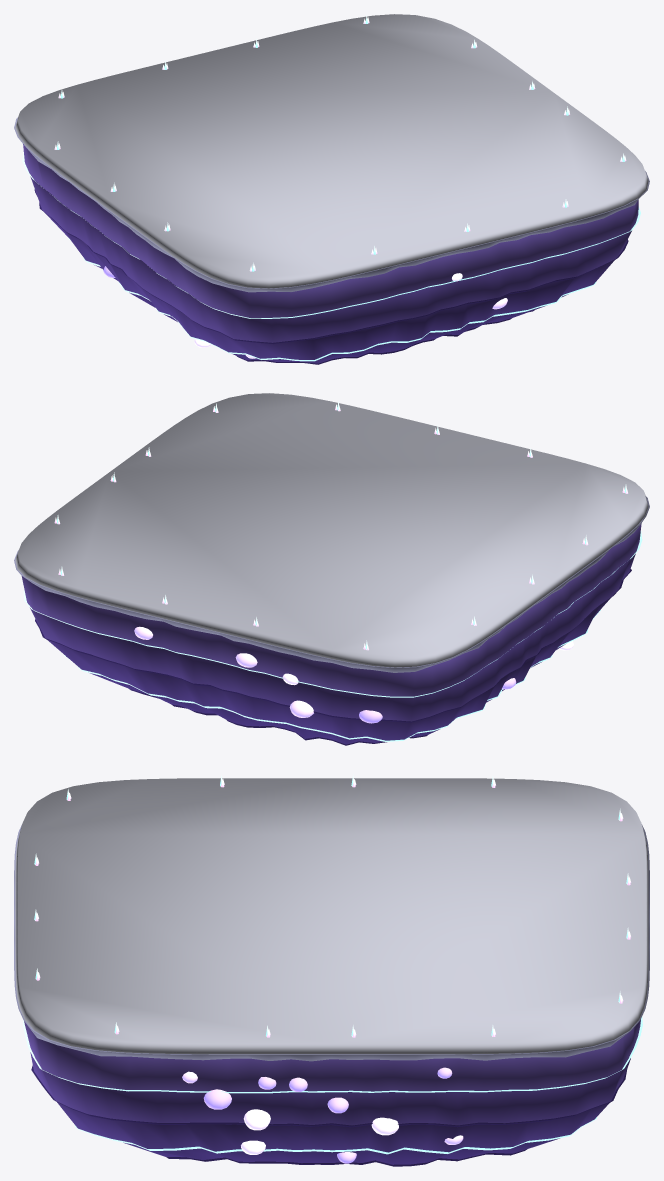
File: island.glb
3 views of the same model, one above another, from view 1: azimuth 30°, elevation 25°; view 2: azimuth 150°, elevation 25°; view 3: azimuth 270°, elevation 25° (orthographic). The views are drawn at different scales.
Parts seen in each view (by area): view 1: top; view 2: top; view 3: top.
Part boxes in pixels (left/top/right/bottom): top: left=14, top=14, right=649, bottom=364; top: left=14, top=393, right=649, bottom=745; top: left=14, top=774, right=649, bottom=1166.
Bounding box in the file's own units: 9.57 × 3.77 × 9.56.
